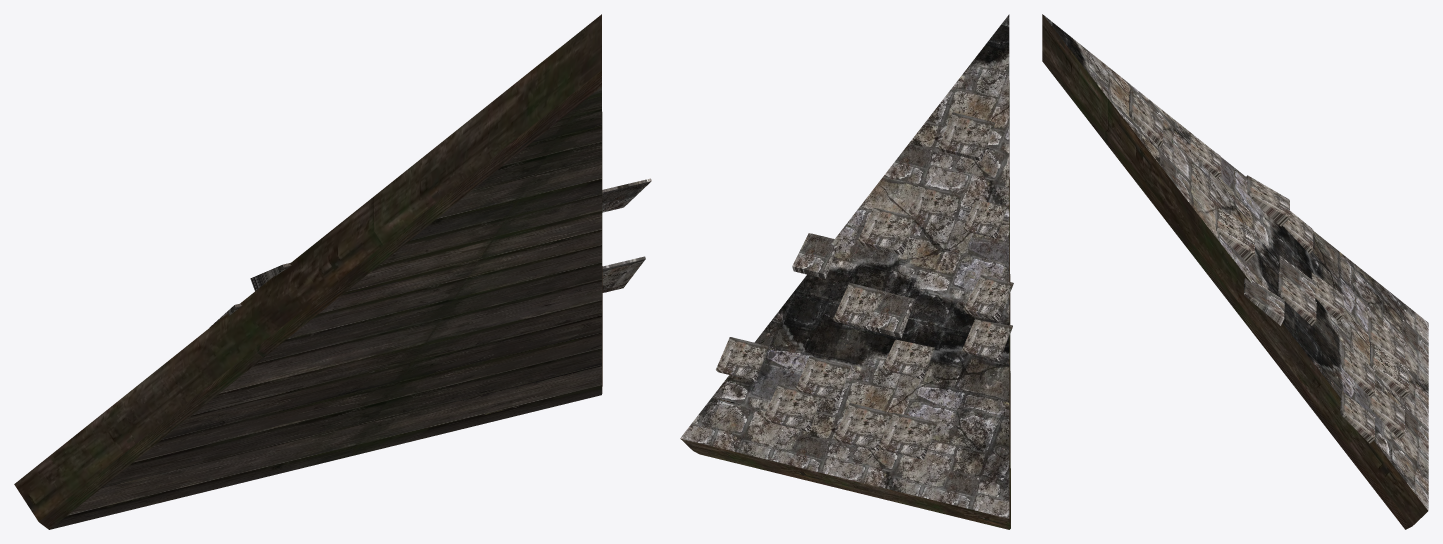
3 renders of one model, left to right at view 1: azimuth 30°, elevation 25°; view 2: azimuth 150°, elevation 25°; view 3: azimuth 270°, elevation 25°, orthographic. The views are drawn at different scales.
Visible parts, largest first — view 1: SM_BB_T3_Roof_Triangle_Large_Inverted_LOD0; view 2: SM_BB_T3_Roof_Triangle_Large_Inverted_LOD0; view 3: SM_BB_T3_Roof_Triangle_Large_Inverted_LOD0.
Part boxes in pixels (<box>): SM_BB_T3_Roof_Triangle_Large_Inverted_LOD0: <box>14,14,651,529</box>; SM_BB_T3_Roof_Triangle_Large_Inverted_LOD0: <box>680,14,1013,529</box>; SM_BB_T3_Roof_Triangle_Large_Inverted_LOD0: <box>1042,14,1428,529</box>.
Bounding box in the file's own units: 3.19 × 3.37 × 2.76.
3 materials, 3 textured.
